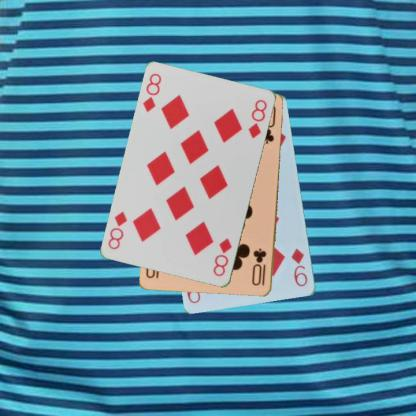10c: (249, 246, 268, 287)
8d: (140, 71, 163, 114), (210, 236, 233, 278)
9d: (289, 246, 309, 288)
